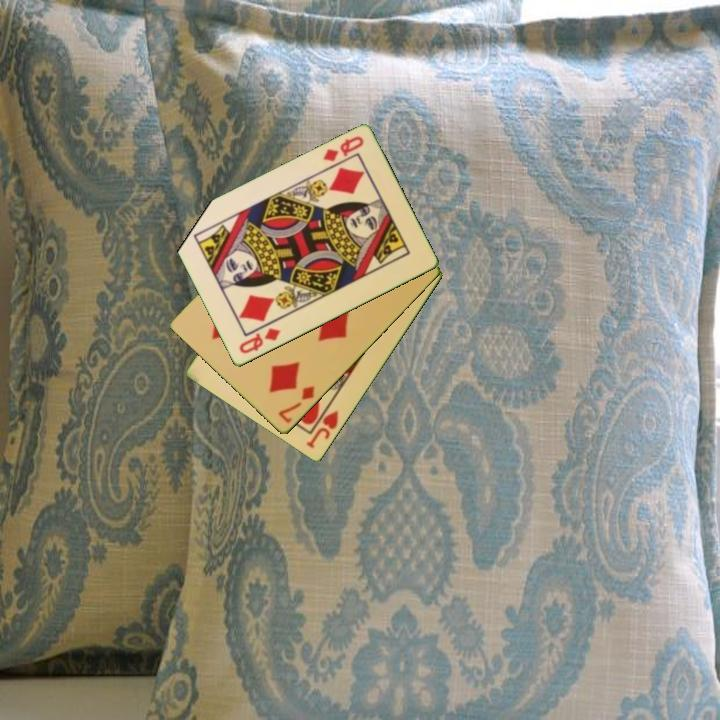7d: (275, 382, 318, 426)
Jh: (303, 399, 341, 452)
Qd: (235, 325, 283, 357), (319, 133, 367, 165)
